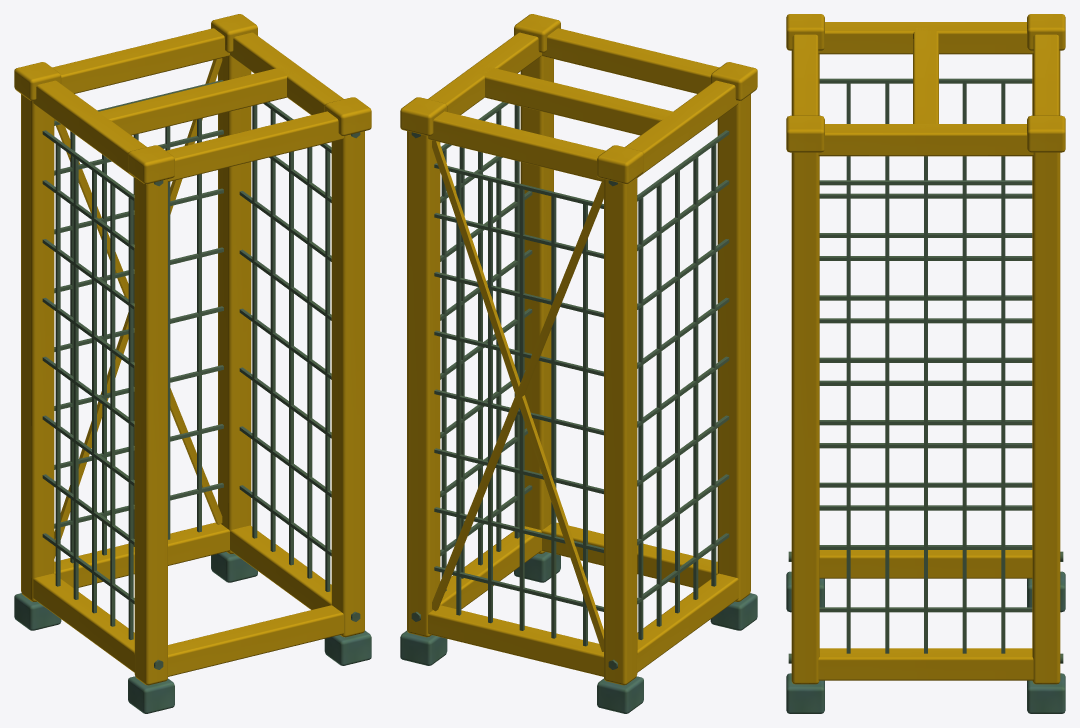
File: hoist.glb
3 views of the same model, side by side, from view 1: azimuth 30°, elevation 25°; view 2: azimuth 150°, elevation 25°; view 3: azimuth 270°, elevation 25° (orthographic). The views are drawn at different scales.
Visible parts, largest first — view 1: factory-hoist-static-shaft; view 2: factory-hoist-static-shaft; view 3: factory-hoist-static-shaft.
Part boxes in pixels (x1=…): factory-hoist-static-shaft: x1=14, y1=14, x2=371, y2=713; factory-hoist-static-shaft: x1=400, y1=14, x2=757, y2=713; factory-hoist-static-shaft: x1=786, y1=14, x2=1065, y2=713.
Bounding box in the file's own units: 1.3 × 3 × 1.3.
Materials: 1 (1 with a texture image).
